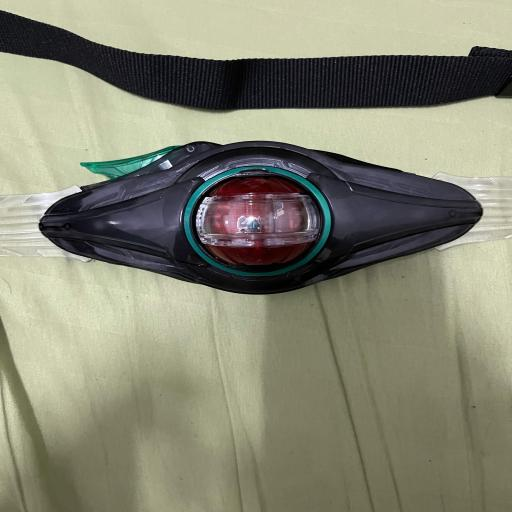zeztzdriver: (0, 141, 512, 294), (0, 11, 512, 108)
